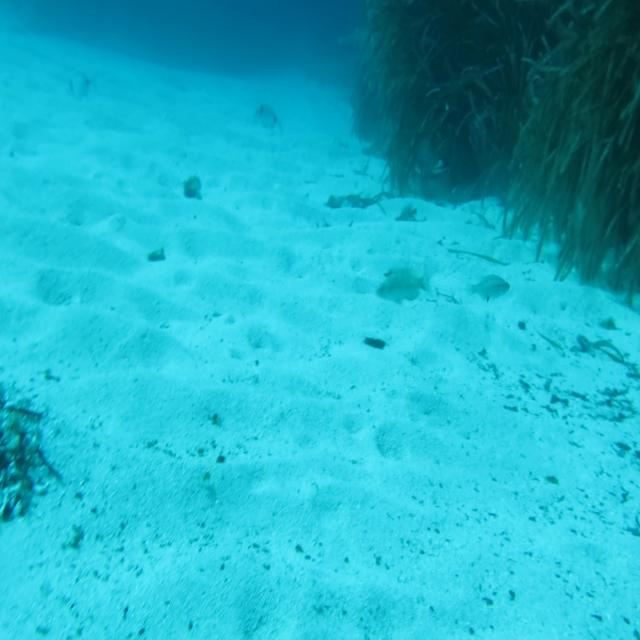BN: (374, 265, 435, 308)
female: (464, 272, 511, 303)
nest: (0, 386, 58, 528)
other_fish: (63, 65, 100, 101), (252, 100, 286, 136)
vegetation: (340, 0, 640, 210), (495, 208, 640, 305), (363, 331, 390, 353), (184, 173, 204, 198), (147, 246, 167, 266)
